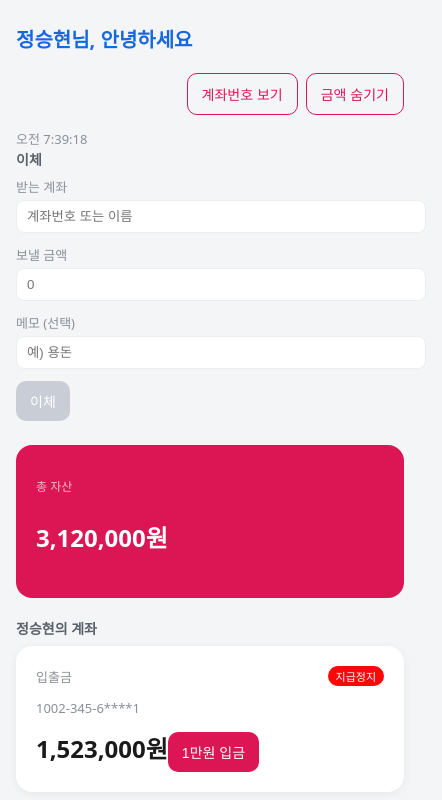
Test: App 안전망 테스트 › "1만원 입금" 을 누르면 최근 거래에 입금 내역이 한 건 추가된다
The image size is (442, 800).
Check: the text "입금 버튼" is not shown
Click the button "1만원 입금" at (214,752), box [168, 732, 259, 772]
(page scrolled)
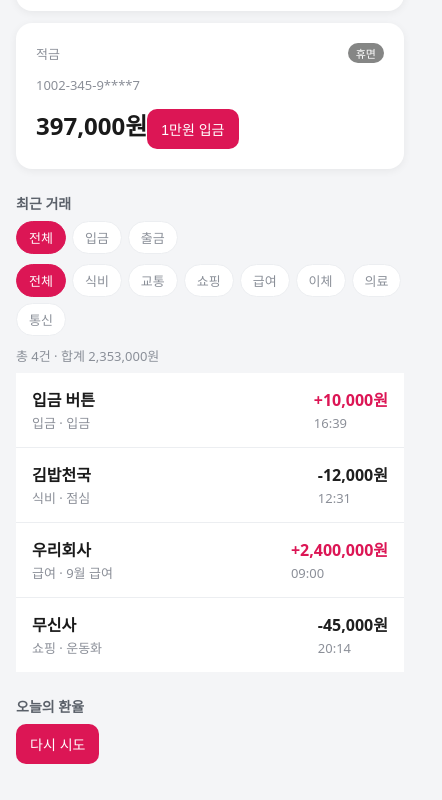
Check: the text "입금 버튼" is shown, box [32, 389, 95, 411]
